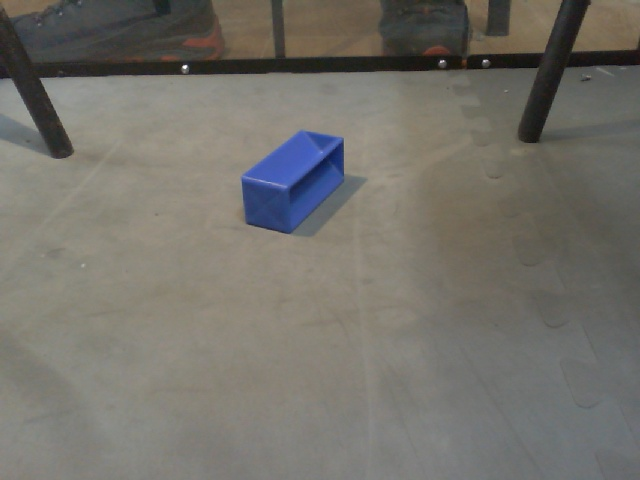BlueSample: (238, 128, 348, 234)
